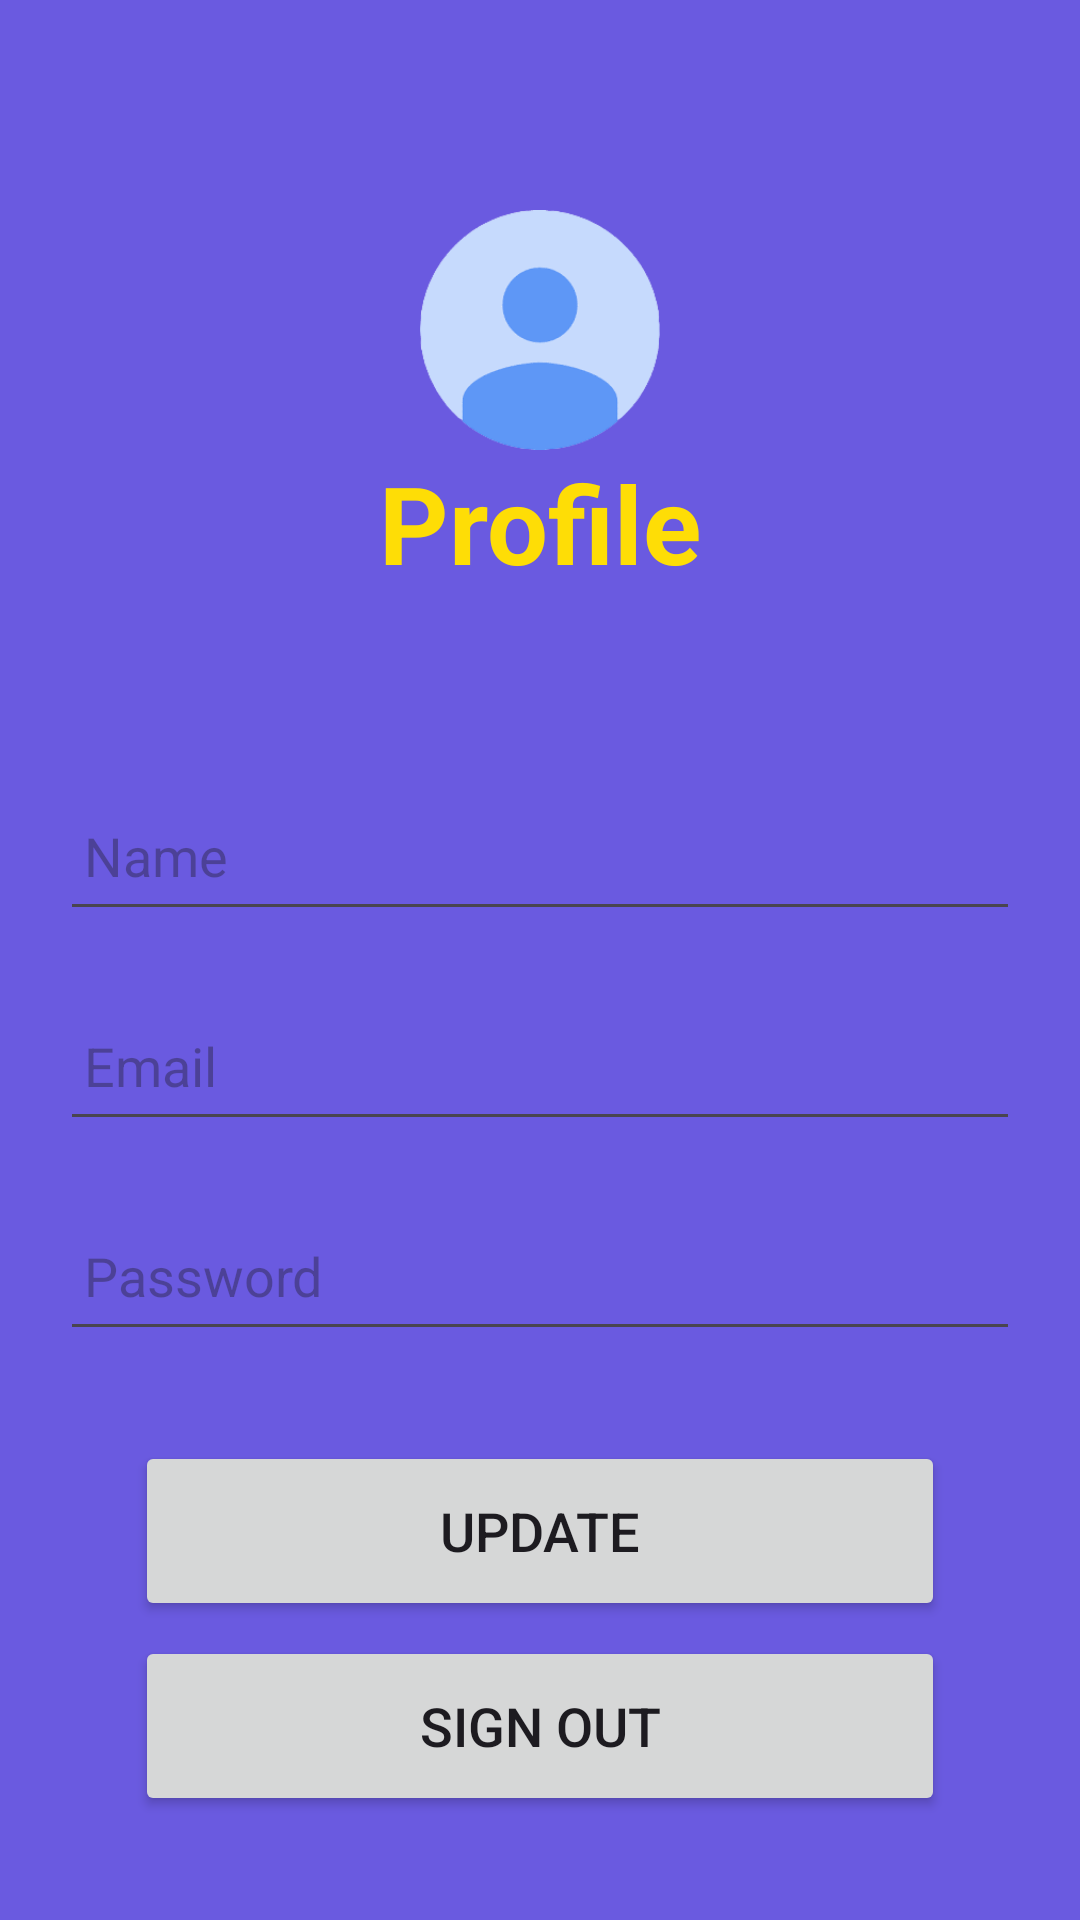

Locate icon controls on the screen. Image size 1080 × 1920, boxes as [x1, y1, x2, y2].
useravatar: [420, 210, 660, 450]
